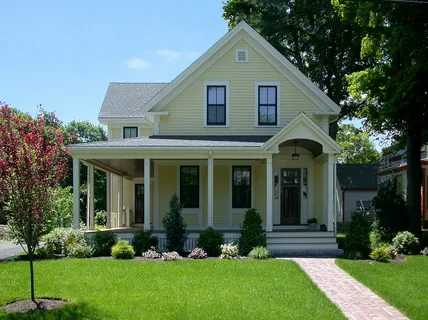private_hause: (100, 34, 350, 247)
